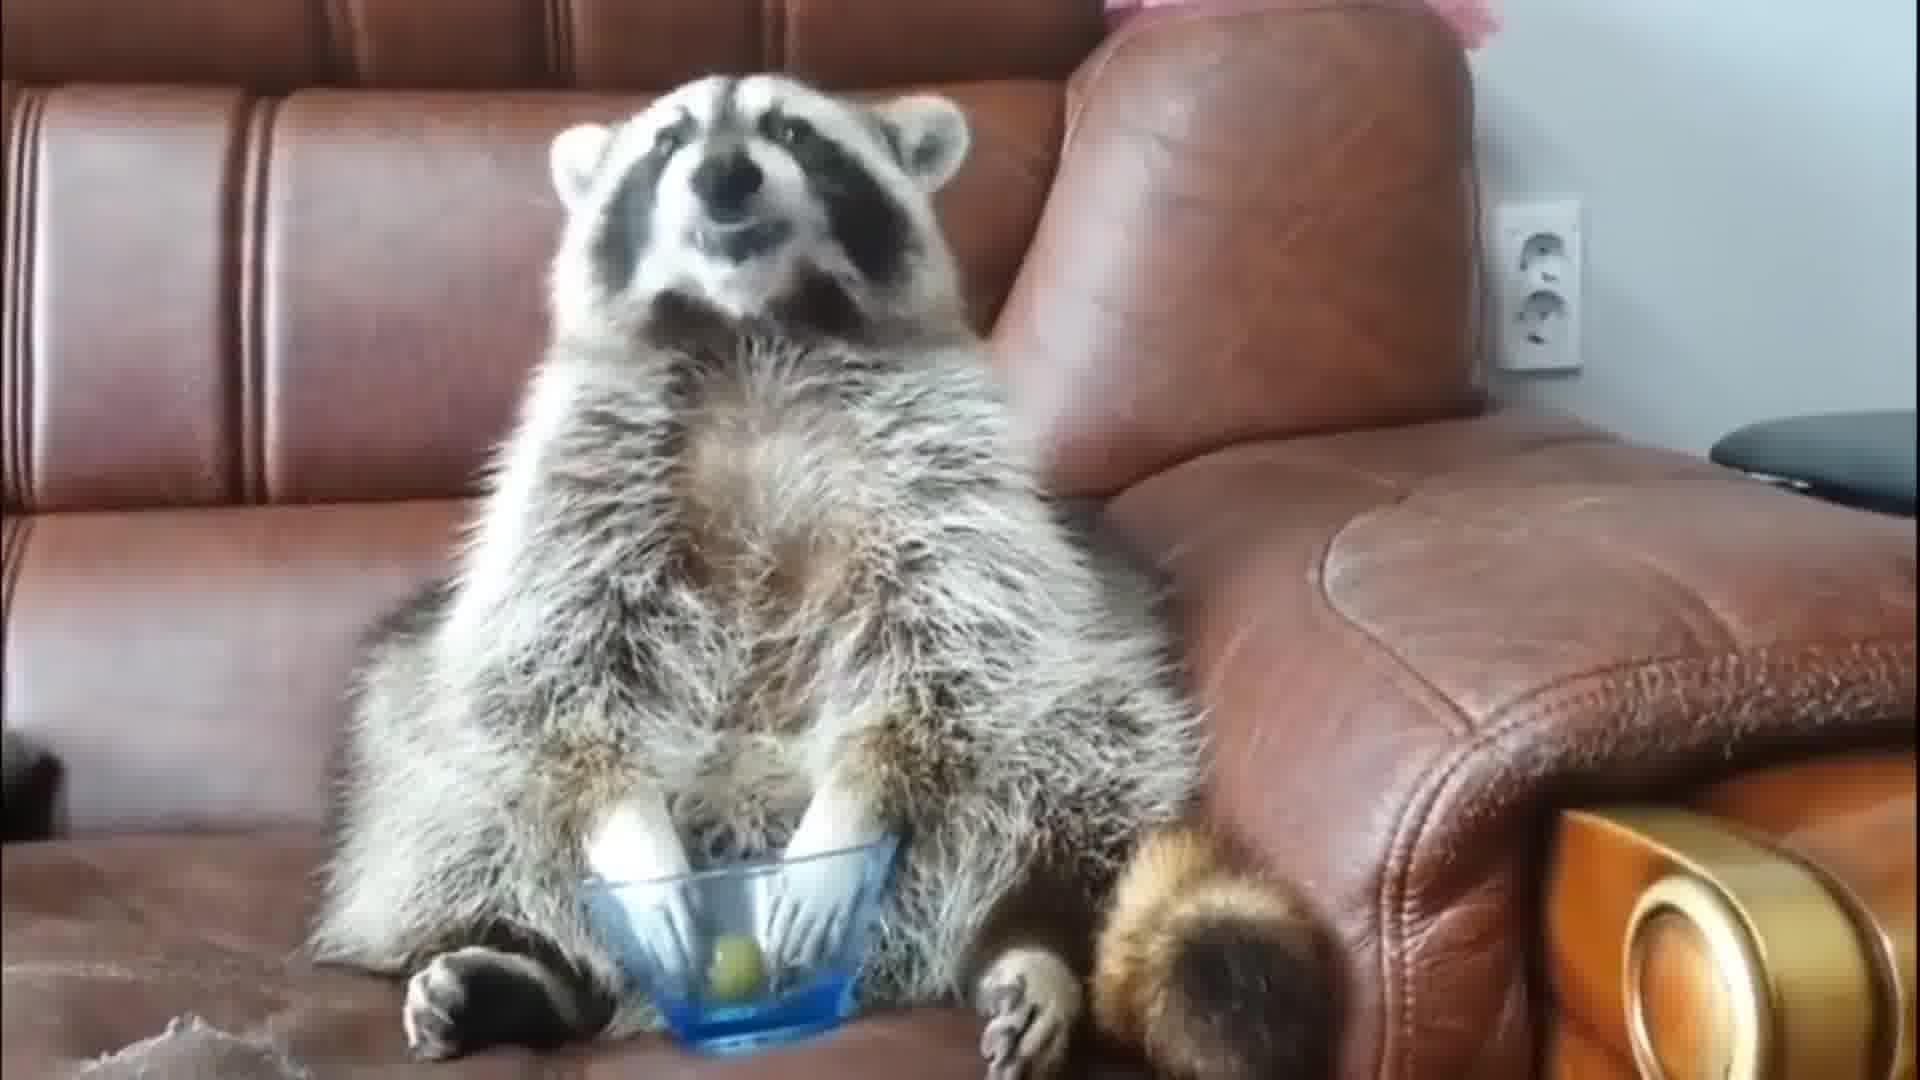raccoon: (305, 59, 1349, 1080)
